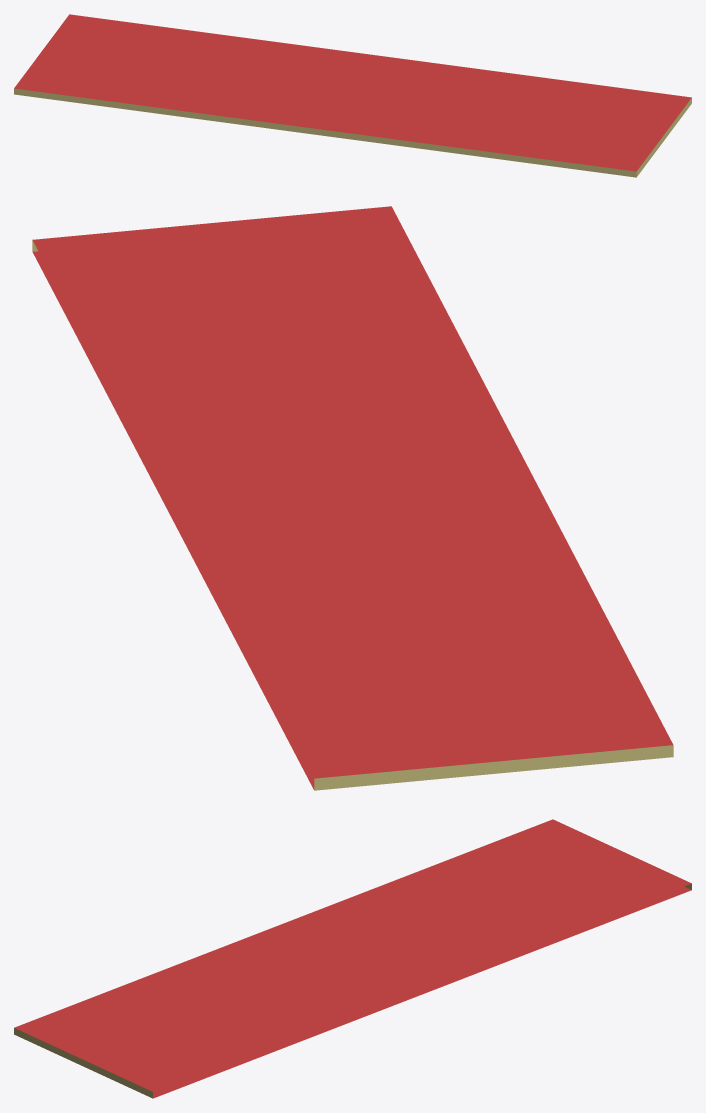
3 views of the same model, one above another, from view 1: azimuth 30°, elevation 25°; view 2: azimuth 150°, elevation 25°; view 3: azimuth 270°, elevation 25° (orthographic). The views are drawn at different scales.
Parts seen in each view (by area): view 1: group_3, group_4; view 2: group_3, group_4, group_5; view 3: group_3, group_5, group_4.
Part boxes in pixels (x1,y1,x2,y2): group_3: [14, 14, 691, 171]; group_4: [14, 88, 691, 177]; group_3: [32, 206, 673, 778]; group_4: [32, 240, 673, 790]; group_5: [32, 251, 314, 789]; group_3: [14, 819, 691, 1091]; group_5: [153, 886, 691, 1098]; group_4: [14, 883, 691, 1098].
Bounding box in the file's own units: 8.67 × 9.11 × 0.1.
